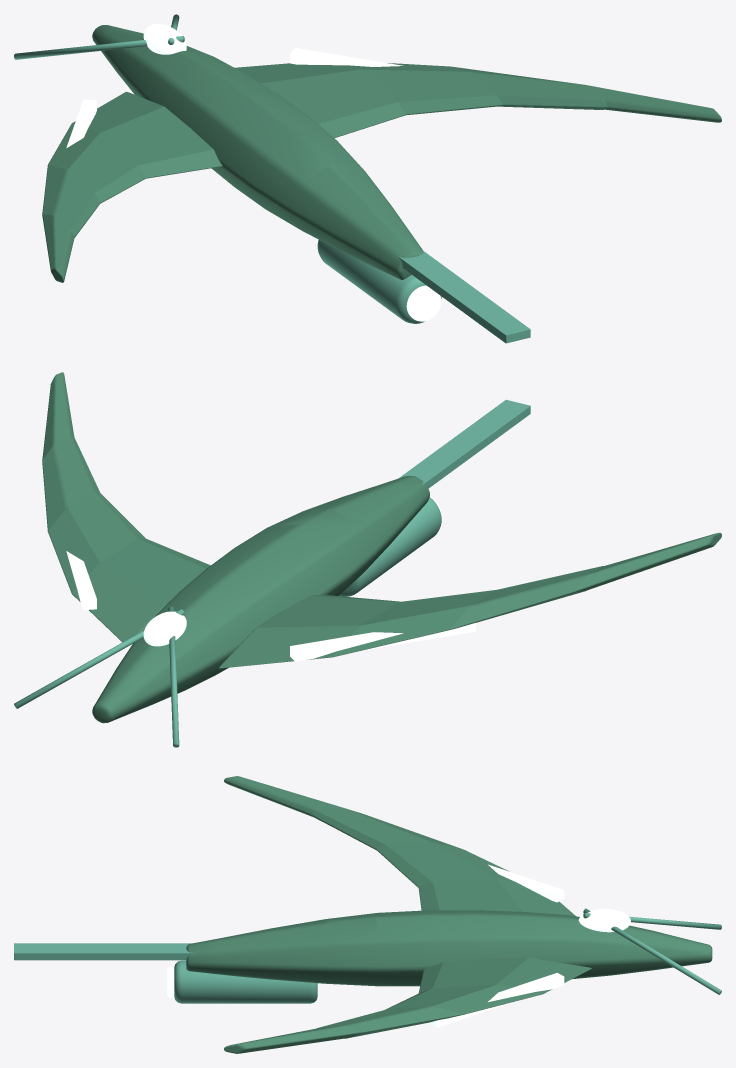
The model's file is kareth-nara-scout.glb.
3 views of the same model, one above another, from view 1: azimuth 30°, elevation 25°; view 2: azimuth 150°, elevation 25°; view 3: azimuth 270°, elevation 25° (orthographic). The views are drawn at different scales.
Parts seen in each view (by area): view 1: hull, wing.001, wing, Cube.002, Cylinder.002, Cube.001, Cylinder, Cylinder.003, Sphere, Cube; view 2: hull, wing.001, wing, Cube.002, Cylinder.002, Cube, Sphere, Cylinder.001, Cube.001, Cylinder; view 3: hull, wing, wing.001, Cylinder.002, Cube.002, Cube.001, Sphere, Cube, Cylinder.001, Cylinder.
Part boxes in pixels (x1,y1,x2,y2): hull: [92, 25, 423, 279]; wing.001: [235, 63, 721, 138]; wing: [42, 91, 222, 282]; Cube.002: [397, 250, 530, 343]; Cylinder.002: [317, 240, 441, 323]; Cube.001: [290, 47, 403, 66]; Cylinder: [14, 36, 184, 59]; Cylinder.003: [406, 285, 441, 321]; Sphere: [143, 24, 186, 54]; Cube: [66, 99, 96, 147]; hull: [92, 475, 429, 723]; wing.001: [42, 372, 210, 642]; wing: [219, 532, 721, 668]; Cube.002: [398, 399, 530, 488]; Cylinder.002: [339, 497, 441, 596]; Cube: [290, 623, 475, 661]; Sphere: [143, 611, 186, 646]; Cylinder.001: [14, 609, 184, 708]; Cube.001: [66, 551, 96, 610]; Cylinder: [168, 606, 179, 747]; hull: [186, 910, 712, 986]; wing: [224, 776, 575, 916]; wing.001: [224, 957, 591, 1053]; Cylinder.002: [174, 960, 317, 1003]; Cube.002: [14, 943, 194, 960]; Cube.001: [430, 973, 564, 1027]; Sphere: [578, 909, 630, 932]; Cube: [488, 864, 564, 902]; Cylinder.001: [583, 908, 721, 994]; Cylinder: [583, 913, 721, 929].
Bounding box in the file's own units: 2.66 × 0.4219 × 2.96.
